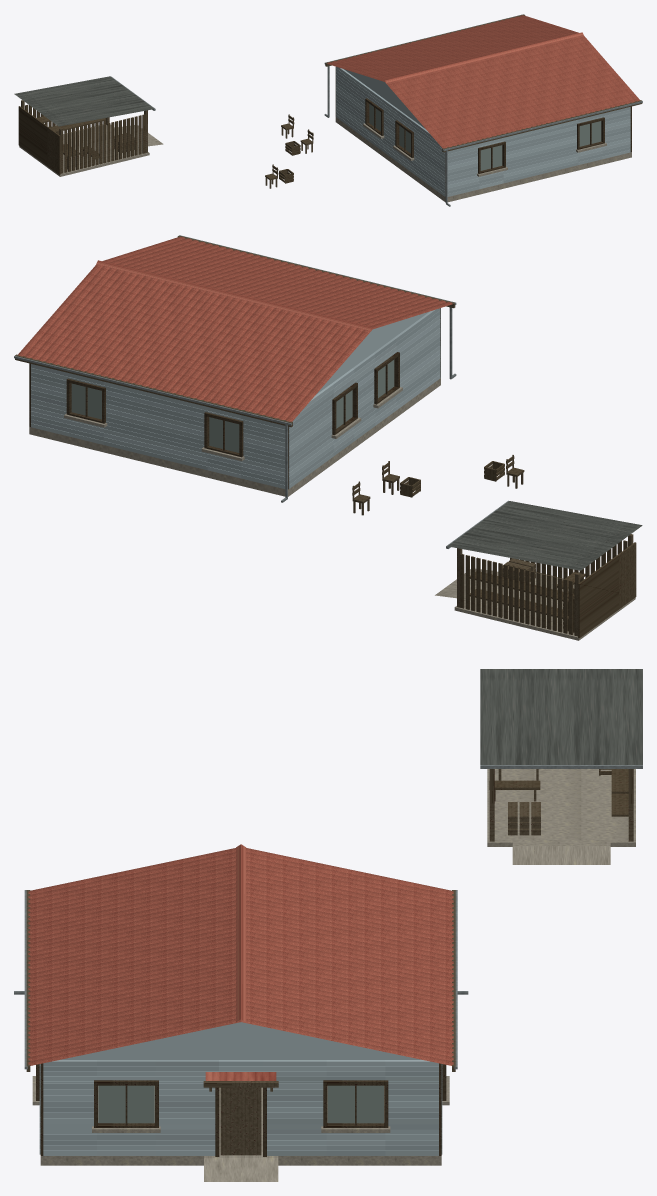
The picture shows the model from 3 angles, top to bottom: view 1: azimuth 30°, elevation 25°; view 2: azimuth 150°, elevation 25°; view 3: azimuth 270°, elevation 25°; orthographic projection. The views are drawn at different scales.
Parts seen in each view (by area): view 1: H21_TELHAS, H21_LATERAIS, H21_FUNDOS, H21_LENHEIRO_CHAPAS_UMA_AGUA, H21_LENHEIRO_RIPADO, H21_FUNDACAO, H21_LENHEIRO_FECHO_FUNDO, H21_VIDROS_RECUADOS, H21_CAIXILHOS, H21_LENHEIRO_BASE, H21_BEIRAIS, H21_OITOES (+6 smaller); view 2: H21_TELHAS, H21_LATERAIS, H21_FUNDOS, H21_LENHEIRO_CHAPAS_UMA_AGUA, H21_LENHEIRO_RIPADO, H21_LENHEIRO_FECHO_FUNDO, H21_FUNDACAO, H21_VIDROS_RECUADOS, H21_CAIXILHOS, H21_BEIRAIS, H21_LENHEIRO_BASE, H21_OITOES (+4 smaller); view 3: H21_TELHAS, H21_FACHADA, H21_LENHEIRO_CHAPAS_UMA_AGUA, H21_LENHEIRO_BASE, H21_OITOES, H21_VIDROS_RECUADOS, H21_FUNDACAO, H21_PORTA_FOLHA, H21_CAIXILHOS, H21_LENHEIRO_RAMPA, H21_CUMEEIRA, H21_RAMPA (+6 smaller).
Boxes of the visible parts, x1,y1,x2,y2 form: H21_TELHAS: [327, 15, 639, 148]; H21_LATERAIS: [447, 107, 630, 196]; H21_FUNDOS: [336, 66, 445, 196]; H21_LENHEIRO_CHAPAS_UMA_AGUA: [14, 76, 154, 126]; H21_LENHEIRO_RIPADO: [25, 104, 145, 173]; H21_FUNDACAO: [335, 117, 631, 202]; H21_LENHEIRO_FECHO_FUNDO: [18, 106, 60, 174]; H21_VIDROS_RECUADOS: [369, 104, 601, 170]; H21_CAIXILHOS: [365, 98, 604, 173]; H21_LENHEIRO_BASE: [19, 124, 149, 176]; H21_BEIRAIS: [325, 14, 642, 152]; H21_OITOES: [344, 69, 425, 128]; H21_TELHAS: [18, 236, 452, 421]; H21_LATERAIS: [31, 364, 285, 488]; H21_FUNDOS: [288, 308, 440, 488]; H21_LENHEIRO_CHAPAS_UMA_AGUA: [448, 501, 642, 570]; H21_LENHEIRO_RIPADO: [460, 540, 627, 635]; H21_LENHEIRO_FECHO_FUNDO: [578, 542, 636, 638]; H21_FUNDACAO: [29, 378, 440, 496]; H21_VIDROS_RECUADOS: [71, 359, 394, 452]; H21_CAIXILHOS: [66, 352, 399, 457]; H21_BEIRAIS: [15, 235, 455, 427]; H21_LENHEIRO_BASE: [454, 572, 635, 640]; H21_OITOES: [316, 311, 429, 394]; H21_TELHAS: [28, 848, 453, 1065]; H21_FACHADA: [43, 1060, 438, 1155]; H21_LENHEIRO_CHAPAS_UMA_AGUA: [480, 669, 642, 764]; H21_LENHEIRO_BASE: [487, 769, 635, 846]; H21_OITOES: [60, 1022, 421, 1059]; H21_VIDROS_RECUADOS: [98, 1085, 383, 1123]; H21_FUNDACAO: [40, 1086, 441, 1165]; H21_PORTA_FOLHA: [220, 1087, 261, 1155]; H21_CAIXILHOS: [36, 1064, 446, 1127]; H21_LENHEIRO_RAMPA: [512, 846, 610, 864]; H21_CUMEEIRA: [236, 844, 246, 1022]; H21_RAMPA: [204, 1158, 278, 1181].
Bounding box in the file's own units: 25.31 × 4.28 × 16.09.
11 materials, 8 textured.
